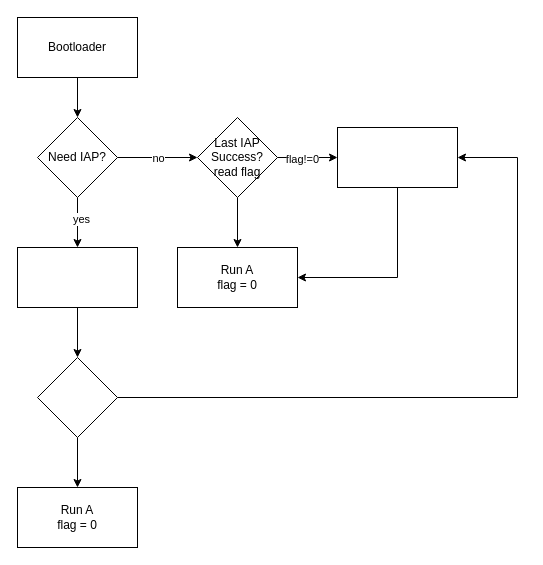
Image size: 543x565. Some labels were removed from this diagram. The centre of each missing label's shape, as x and y in pixels:
Copy A 2 B for rolling back flag = 1: point (77, 277)
Copy B 2 A try rolling back flag = 5: point (397, 157)
IAP A flag = 2~4: point (77, 397)
